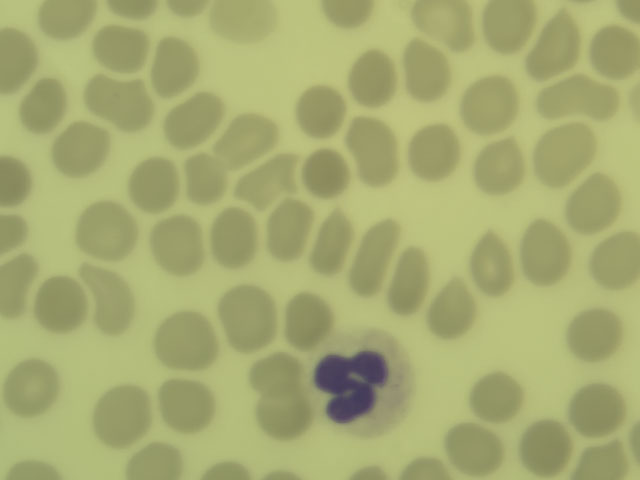RBC: (304, 206, 355, 278), (348, 113, 396, 184), (82, 74, 147, 126), (86, 267, 134, 337), (159, 313, 215, 370), (55, 118, 111, 175), (167, 90, 223, 147), (218, 107, 274, 164), (147, 212, 203, 269), (584, 232, 640, 289), (570, 304, 626, 361), (284, 288, 340, 345), (157, 378, 213, 435), (90, 387, 146, 444), (1, 360, 57, 417), (30, 274, 86, 331), (124, 156, 180, 213), (76, 200, 132, 257), (212, 205, 268, 262), (423, 282, 479, 339), (465, 235, 521, 292), (518, 220, 574, 277), (563, 177, 619, 234), (534, 126, 590, 183), (472, 136, 528, 193), (463, 71, 519, 128), (408, 124, 464, 181), (448, 417, 504, 474), (468, 365, 524, 422), (259, 386, 315, 443), (219, 288, 275, 345), (475, 1, 531, 56), (534, 10, 579, 77), (294, 83, 346, 139), (355, 217, 392, 291), (269, 197, 313, 259), (391, 249, 432, 314), (298, 147, 351, 196), (90, 28, 150, 71), (16, 82, 67, 132), (571, 384, 623, 433), (351, 46, 394, 105), (212, 1, 278, 37), (32, 1, 98, 37), (593, 24, 640, 74), (152, 38, 198, 89), (420, 1, 475, 43), (403, 41, 445, 95), (247, 352, 300, 392), (127, 443, 184, 480), (1, 28, 35, 89), (520, 419, 557, 472), (576, 442, 625, 480), (1, 252, 30, 311), (189, 151, 224, 199), (1, 152, 31, 201), (1, 211, 32, 251), (402, 457, 451, 480), (314, 1, 365, 23), (13, 456, 59, 480), (101, 1, 163, 17)
WBC: (313, 332, 418, 440)
